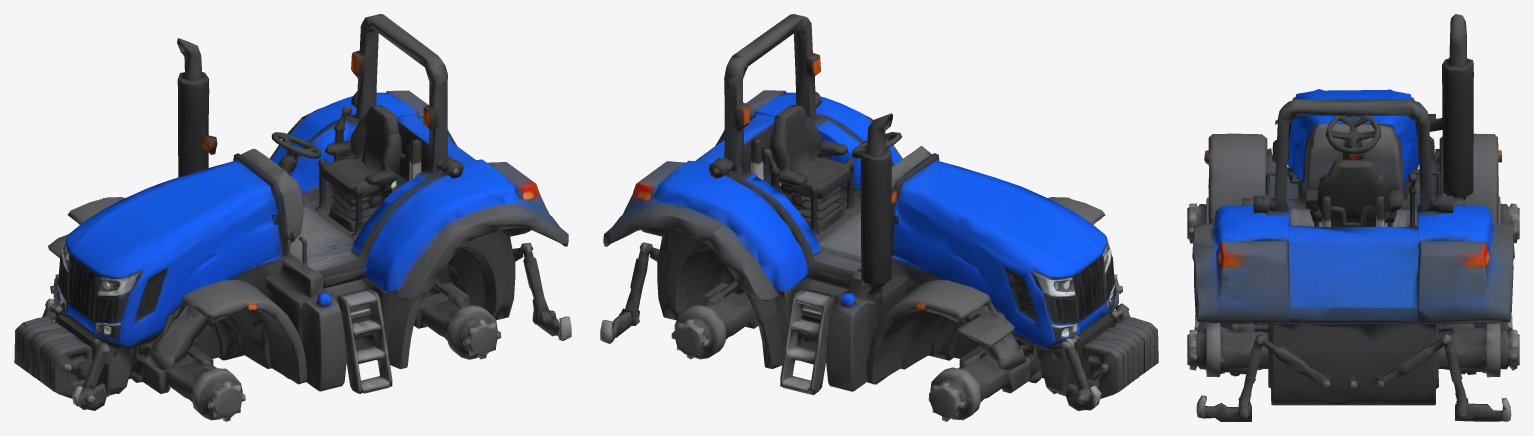
The model's file is buyuk-traktor.glb.
The picture shows the model from 3 angles, left to right: view 1: azimuth 30°, elevation 25°; view 2: azimuth 150°, elevation 25°; view 3: azimuth 270°, elevation 25°; orthographic projection.
Visible parts, largest first — view 1: tripo_node_cfc99e49-ccde-41c3-918a-c59295e0ff21; view 2: tripo_node_cfc99e49-ccde-41c3-918a-c59295e0ff21; view 3: tripo_node_cfc99e49-ccde-41c3-918a-c59295e0ff21.
Part boxes in pixels (<box>): tripo_node_cfc99e49-ccde-41c3-918a-c59295e0ff21: <box>14,14,571,421</box>; tripo_node_cfc99e49-ccde-41c3-918a-c59295e0ff21: <box>600,14,1158,421</box>; tripo_node_cfc99e49-ccde-41c3-918a-c59295e0ff21: <box>1187,14,1519,421</box>.
Bounding box in the file's own units: 0.979 × 0.5574 × 0.595.
1 material, 1 textured.
